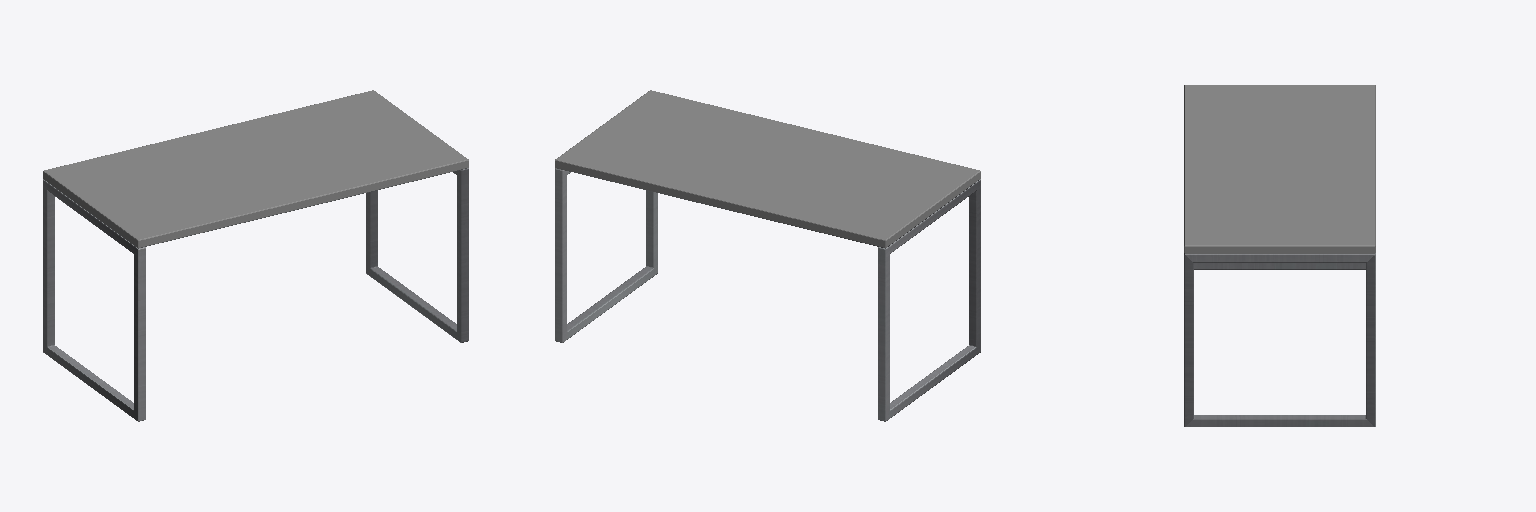
The picture shows the model from 3 angles: view 1: azimuth 30°, elevation 25°; view 2: azimuth 150°, elevation 25°; view 3: azimuth 270°, elevation 25°; orthographic projection.
Visible parts, largest first — view 1: Table_Cube_001; view 2: Table_Cube_001; view 3: Table_Cube_001.
Part boxes in pixels (left/top/right/bottom): Table_Cube_001: left=43, top=90, right=468, bottom=421; Table_Cube_001: left=555, top=90, right=980, bottom=421; Table_Cube_001: left=1184, top=85, right=1375, bottom=426.
Bounding box in the file's own units: 4 × 2.1 × 2.
Materials: 2 (1 with a texture image).